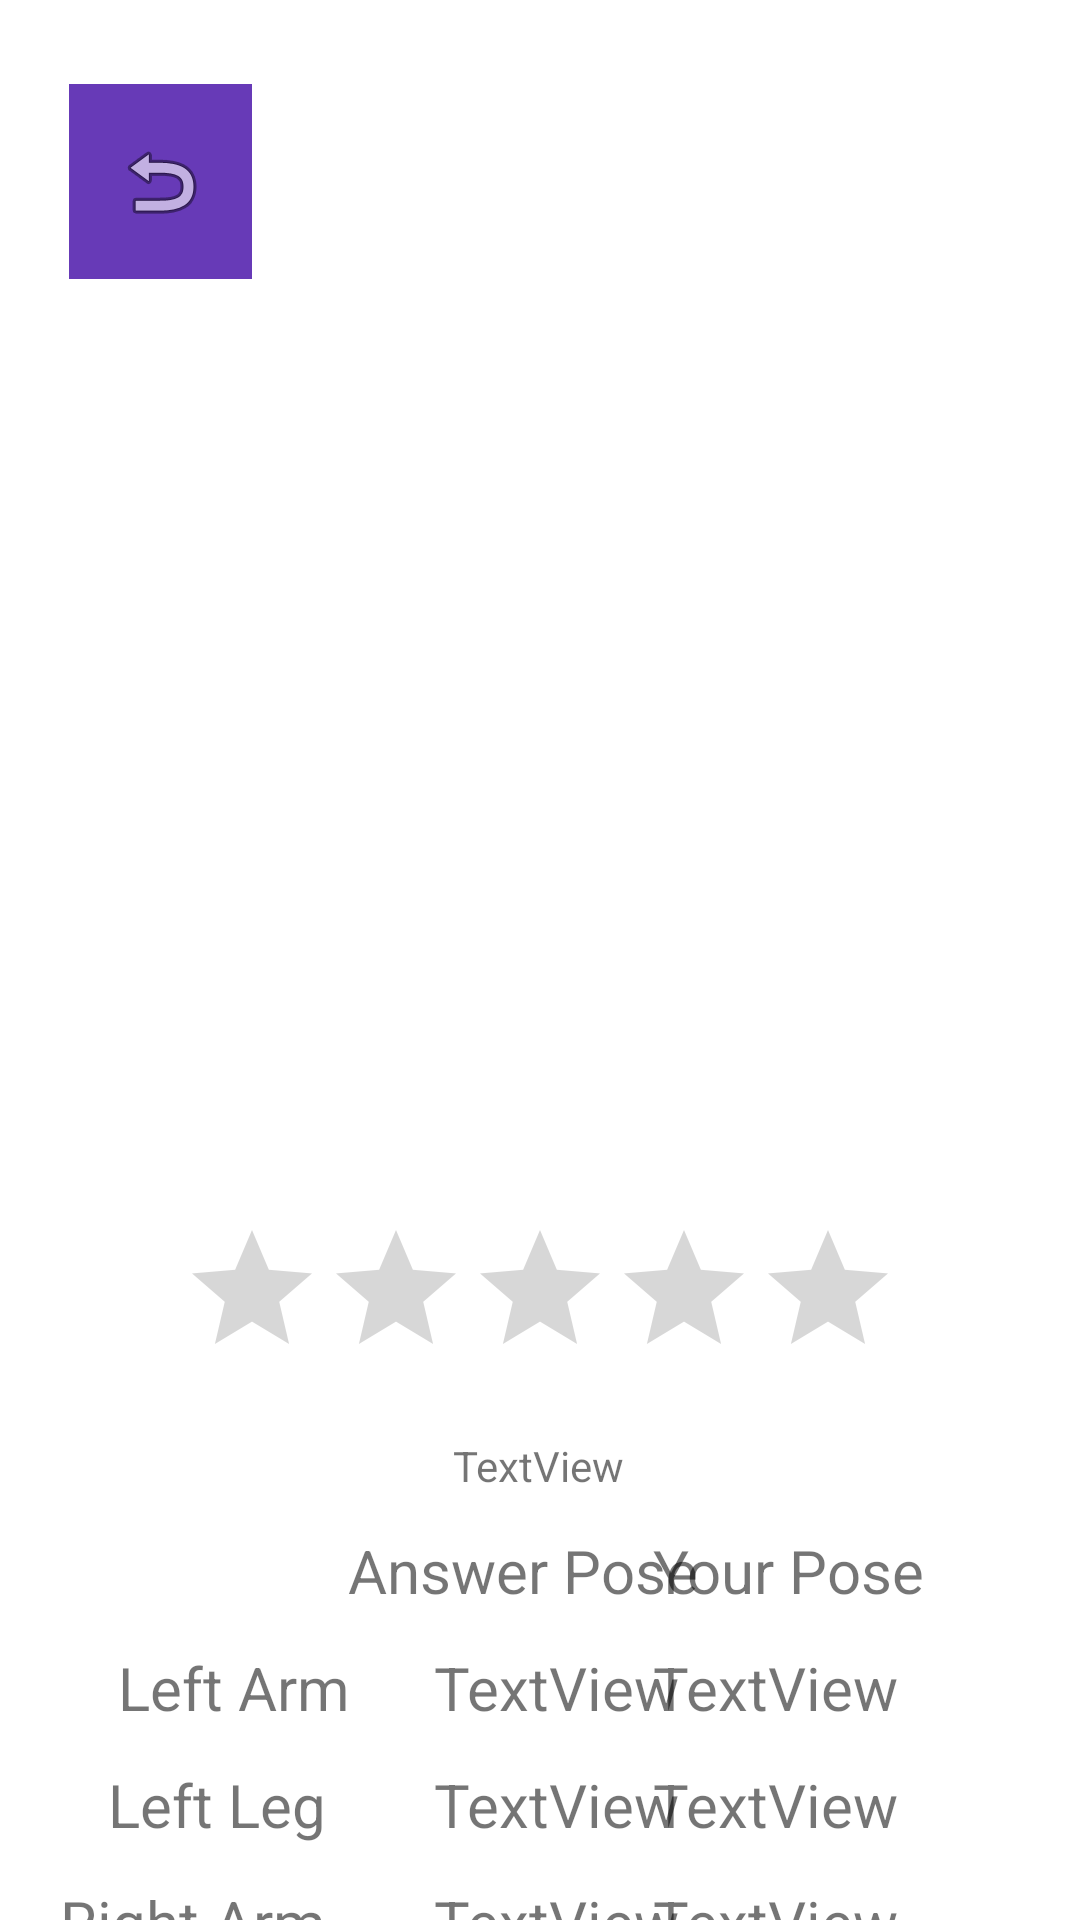

Screen size 1080×1920. Icon name, then its box in pixels as rect(x1, y1, x2, y2):
revert: rect(69, 84, 252, 279)
